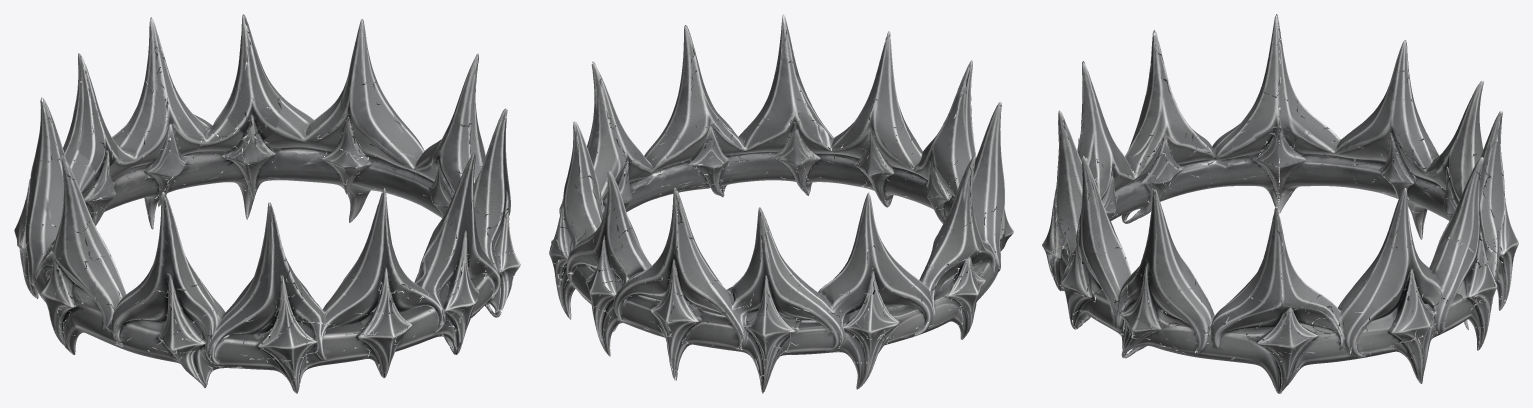
File: crown.glb
3 views of the same model, side by side, from view 1: azimuth 30°, elevation 25°; view 2: azimuth 150°, elevation 25°; view 3: azimuth 270°, elevation 25° (orthographic). The views are drawn at different scales.
Bounding box in the file's own units: 1.9 × 0.8914 × 1.88.
1 material, 1 textured.
